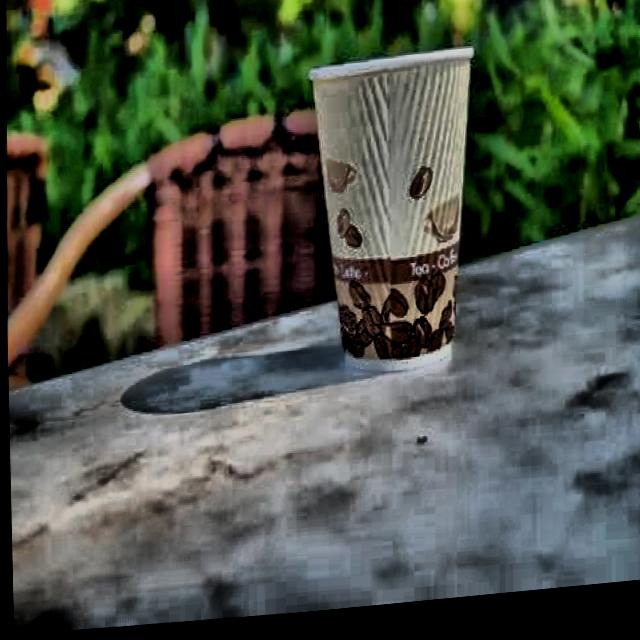Cup: (293, 32, 487, 395)
